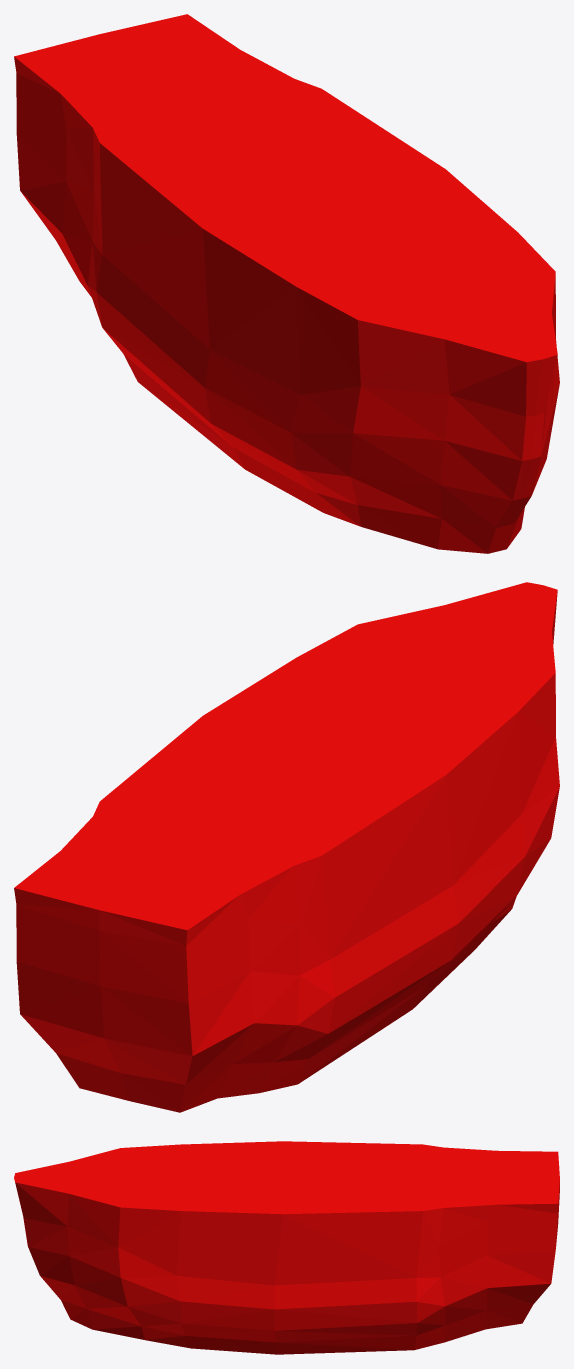
The model's file is CargoCollider.fbx.
The picture shows the model from 3 angles, top to bottom: view 1: azimuth 30°, elevation 25°; view 2: azimuth 150°, elevation 25°; view 3: azimuth 270°, elevation 25°; orthographic projection. The views are drawn at different scales.
Visible parts, largest first — view 1: BSurfaceMesh; view 2: BSurfaceMesh; view 3: BSurfaceMesh.
Part boxes in pixels (x1,y1,x2,y2): BSurfaceMesh: (14, 14, 559, 553); BSurfaceMesh: (14, 582, 559, 1112); BSurfaceMesh: (14, 1141, 559, 1354).
Size of the model in its own units: 26.39 by 24.46 by 79.77.
